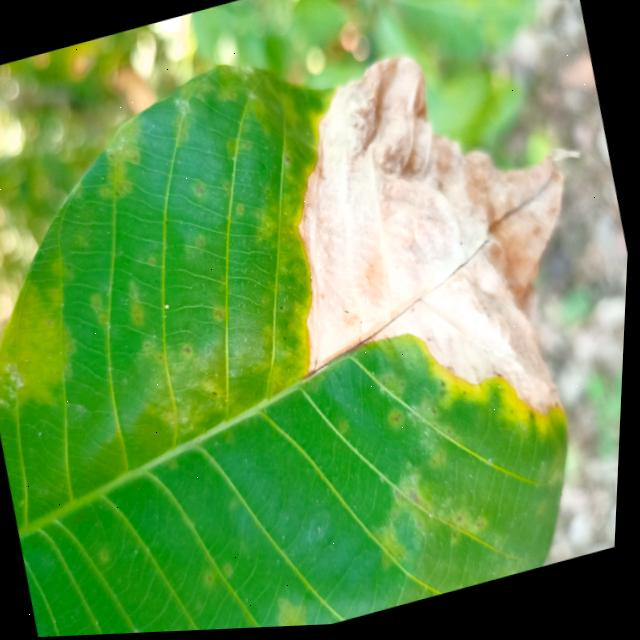Leaf-Blight: (242, 16, 624, 480)
